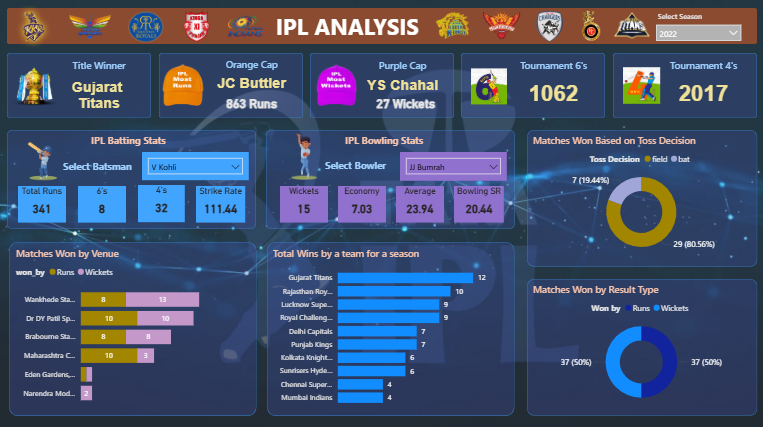

Layout of this report page (visuals, bound fields, positions):
{"tool":"powerbi","page":{"name":"Main Dashboard","canvas":[1280,720],"ordinal":0},"visuals":[{"type":"shape","box":[15,15,1250,60],"z":0},{"type":"textbox","box":[458.8,14.3,259.6,60.5],"z":1000},{"type":"shape","box":[15,90,240,108.3],"z":2000},{"type":"slicer","fields":{"Values":["Calender Table.Year"]},"box":[1086.7,15,161.7,60],"z":3000},{"type":"card","title":"Title Winner","fields":{"Values":["ipl_matches_2008_2022.Title Winner"]},"box":[90.9,100.4,153.4,96.6],"z":4000},{"type":"shape","box":[268.3,90,240,108.3],"z":5000},{"type":"shape","box":[520,90,240,108.3],"z":6000},{"type":"shape","box":[771.7,90,240,108.3],"z":7000},{"type":"shape","box":[1025,90,240,108.3],"z":8000},{"type":"card","title":"Orange Cap","fields":{"Values":["Min(ipl_ball_by_ball_2008_2022.batter)"]},"box":[344.6,98.5,155.3,64.4],"z":9000},{"type":"card","title":"Orange Cap","fields":{"Values":["ipl_ball_by_ball_2008_2022.Batter Runs"]},"box":[344.6,159.1,155.3,32.2],"z":10000},{"type":"card","title":"Purple Cap","fields":{"Values":["Min(ipl_ball_by_ball_2008_2022.bowler)"]},"box":[596.4,100.4,155.3,66.3],"z":11000},{"type":"card","title":"Purple Cap","fields":{"Values":["ipl_ball_by_ball_2008_2022.Bowler Wickets"]},"box":[605.9,155.3,145.8,39.8],"z":12000},{"type":"card","title":"Tournament 6''s","fields":{"Values":["CountNonNull(ipl_ball_by_ball_2008_2022.batsman_run)"]},"box":[848.3,100.4,155.3,90.9],"z":13000},{"type":"card","title":"Tournament 4''s","fields":{"Values":["CountNonNull(ipl_ball_by_ball_2008_2022.batsman_run)"]},"box":[1098.2,100.4,155.3,90.9],"z":14000},{"type":"shape","box":[15.1,217.8,415,165],"z":15000},{"type":"shape","box":[446.9,217.8,414.7,164.7],"z":16000},{"type":"slicer","fields":{"Values":["ipl_ball_by_ball_2008_2022.batter"]},"box":[240,255,178.3,46.7],"z":17000},{"type":"textbox","box":[103.5,262.8,135.4,39.8],"z":18000},{"type":"card","title":"Total Runs","fields":{"Values":["Sum(ipl_ball_by_ball_2008_2022.batsman_run)"]},"box":[34.1,312.4,79.5,60.6],"z":19000},{"type":"card","title":"6''s","fields":{"Values":["CountNonNull(ipl_ball_by_ball_2008_2022.batsman_run)"]},"box":[132.5,312.4,79.5,60.6],"z":20000},{"type":"card","title":"Strike Rate","fields":{"Values":["ipl_ball_by_ball_2008_2022.Strike Rate for Batsman"]},"box":[329.5,312.4,82,60.6],"z":21000},{"type":"card","title":"4''s","fields":{"Values":["CountNonNull(ipl_ball_by_ball_2008_2022.batsman_run)"]},"box":[233.3,310,78.3,61.7],"z":22000},{"type":"textbox","box":[149.6,219.6,145.8,36],"z":23000},{"type":"slicer","fields":{"Values":["ipl_ball_by_ball_2008_2022.bowler"]},"box":[670.6,254.9,178.4,47.8],"z":24000},{"type":"card","title":"Wickets","fields":{"Values":["Sum(ipl_ball_by_ball_2008_2022.iswicket_delivery)"]},"box":[469.6,312.4,79.5,60.6],"z":25000},{"type":"card","title":"Economy","fields":{"Values":["ipl_ball_by_ball_2008_2022.Economy"]},"box":[566.2,312.4,79.5,60.6],"z":26000},{"type":"card","title":"Average","fields":{"Values":["ipl_ball_by_ball_2008_2022.Average by Bowler"]},"box":[662.7,312.4,79.5,60.6],"z":27000},{"type":"card","title":"Bowling SR","fields":{"Values":["ipl_ball_by_ball_2008_2022.Bowling SR"]},"box":[759.3,312.4,83.3,60.6],"z":28000},{"type":"textbox","box":[539.6,261.3,134.4,39.8],"z":29000},{"type":"textbox","box":[573.7,219.6,160.9,36],"z":30000},{"type":"shape","box":[880.9,218.2,383.9,227.8],"z":31000},{"type":"donutChart","title":"Matches Won Based on Toss Decision","fields":{"Category":["ipl_matches_2008_2022.toss_decision"],"Y":["ipl_matches_2008_2022.Matches Won on toss decision"]},"box":[887.3,224.6,371.2,210.3],"z":32000},{"type":"shape","box":[880.9,466.7,383.9,227.8],"z":33000},{"type":"donutChart","title":"Matches Won by Result Type","fields":{"Category":["ipl_matches_2008_2022.won_by"],"Y":["CountNonNull(ipl_matches_2008_2022.id)"]},"box":[887.3,473.1,371.2,213.5],"z":34000},{"type":"shape","box":[19.1,404.6,412.6,289.9],"z":35000},{"type":"barChart","title":"Matches Won by Venue","fields":{"Category":["ipl_matches_2008_2022.venue"],"Series":["ipl_matches_2008_2022.won_by"],"Y":["CountNonNull(ipl_matches_2008_2022.id)"]},"box":[25.5,412.6,399.8,274],"z":36000},{"type":"shape","box":[447.6,404.6,412.6,289.9],"z":37000},{"type":"barChart","title":"Total Wins by a team for a season","fields":{"Category":["ipl_matches_2008_2022.winning_team"],"Y":["CountNonNull(ipl_matches_2008_2022.winning_team)"]},"box":[454,412.6,399.8,274],"z":38000},{"type":"image","box":[11.2,94,101.9,108.3],"z":39000},{"type":"image","box":[524.1,92.4,82.8,105.1],"z":40000},{"type":"image","box":[17.5,211.9,111.5,117.9],"z":41000},{"type":"image","box":[442.8,202.3,133.8,121.1],"z":42000},{"type":"image","box":[1037,106.7,71.7,74.9],"z":43000},{"type":"image","box":[783.7,106.7,70.1,78.1],"z":44000},{"type":"image","box":[266,100.4,84.4,87.6],"z":45000},{"type":"image","box":[721.6,6.4,71.7,74.9],"z":46000},{"type":"image","box":[888.8,14.3,62.1,60.5],"z":47000},{"type":"image","box":[1021.1,6.4,70.1,74.9],"z":48000},{"type":"image","box":[17.5,4.8,82.8,82.8],"z":49000},{"type":"image","box":[113.1,9.6,79.6,71.7],"z":50000},{"type":"image","box":[375.9,11.2,71.7,65.3],"z":51000},{"type":"image","box":[957.3,12.7,63.7,60.5],"z":52000},{"type":"image","box":[205.5,8,79.6,76.5],"z":53000},{"type":"image","box":[802.8,6.4,71.7,74.9],"z":54000},{"type":"image","box":[300.1,14.3,62.1,60.5],"z":55000}]}

Visuals, with their boxes in screenshot pixels (x1, y1, x2, y2), scaled from the page's 1280x720 canvas onto the 763x427 screenshot:
shape: (9,9,754,44)
textbox: (273,8,428,44)
shape: (9,53,152,118)
slicer - Calender Table.Year: (648,9,744,44)
"Title Winner" card: (54,60,146,117)
shape: (160,53,303,118)
shape: (310,53,453,118)
shape: (460,53,603,118)
shape: (611,53,754,118)
"Orange Cap" card: (205,58,298,97)
"Orange Cap" card: (205,94,298,113)
"Purple Cap" card: (356,60,448,99)
"Purple Cap" card: (361,92,448,116)
"Tournament 6''s" card: (506,60,598,113)
"Tournament 4''s" card: (655,60,747,113)
shape: (9,129,256,227)
shape: (266,129,514,227)
slicer - ipl_ball_by_ball_2008_2022.batter: (143,151,249,179)
textbox: (62,156,142,179)
"Total Runs" card: (20,185,68,221)
"6''s" card: (79,185,126,221)
"Strike Rate" card: (196,185,245,221)
"4''s" card: (139,184,186,220)
textbox: (89,130,176,152)
slicer - ipl_ball_by_ball_2008_2022.bowler: (400,151,506,180)
"Wickets" card: (280,185,327,221)
"Economy" card: (338,185,385,221)
"Average" card: (395,185,442,221)
"Bowling SR" card: (453,185,502,221)
textbox: (322,155,402,179)
textbox: (342,130,438,152)
shape: (525,129,754,265)
"Matches Won Based on Toss Decision" donutChart: (529,133,750,258)
shape: (525,277,754,412)
"Matches Won by Result Type" donutChart: (529,281,750,407)
shape: (11,240,257,412)
"Matches Won by Venue" barChart: (15,245,254,407)
shape: (267,240,513,412)
"Total Wins by a team for a season" barChart: (271,245,509,407)
image: (7,56,67,120)
image: (312,55,362,117)
image: (10,126,77,196)
image: (264,120,344,192)
image: (618,63,661,108)
image: (467,63,509,110)
image: (159,60,209,111)
image: (430,4,473,48)
image: (530,8,567,44)
image: (609,4,650,48)
image: (10,3,60,52)
image: (67,6,115,48)
image: (224,7,267,45)
image: (571,8,609,43)
image: (122,5,170,50)
image: (479,4,521,48)
image: (179,8,216,44)
